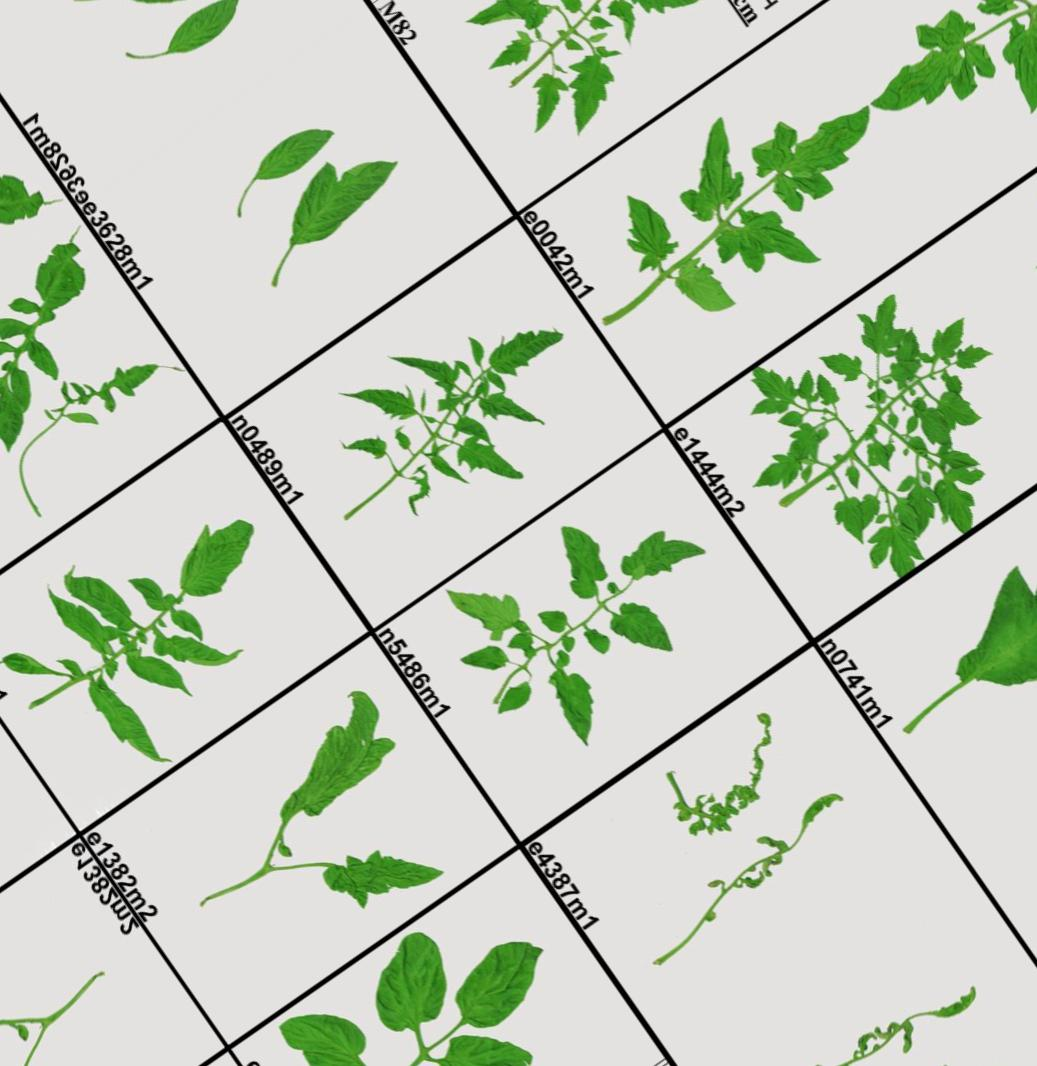Tomato leaf: (910, 474, 1037, 744), (739, 79, 894, 222), (650, 114, 768, 231), (712, 186, 829, 303), (607, 506, 718, 601), (650, 242, 746, 349), (480, 301, 583, 396), (595, 582, 686, 684)
